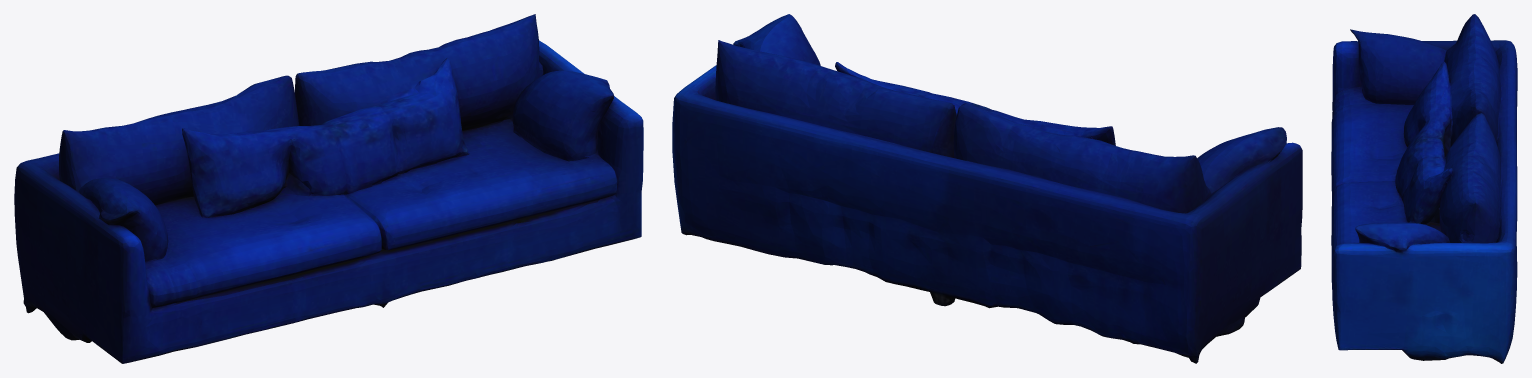
Rendered from mood-1.glb.
The picture shows the model from 3 angles, left to right: view 1: azimuth 30°, elevation 25°; view 2: azimuth 150°, elevation 25°; view 3: azimuth 270°, elevation 25°; orthographic projection. The views are drawn at different scales.
Parts seen in each view (by area): view 1: world; view 2: world; view 3: world.
Part boxes in pixels (<box>): world: <box>14,14,643,363</box>; world: <box>672,14,1302,363</box>; world: <box>1331,14,1517,363</box>.
Bounding box in the file's own units: 2.27 × 0.8 × 0.84.
1 material, 1 textured.
